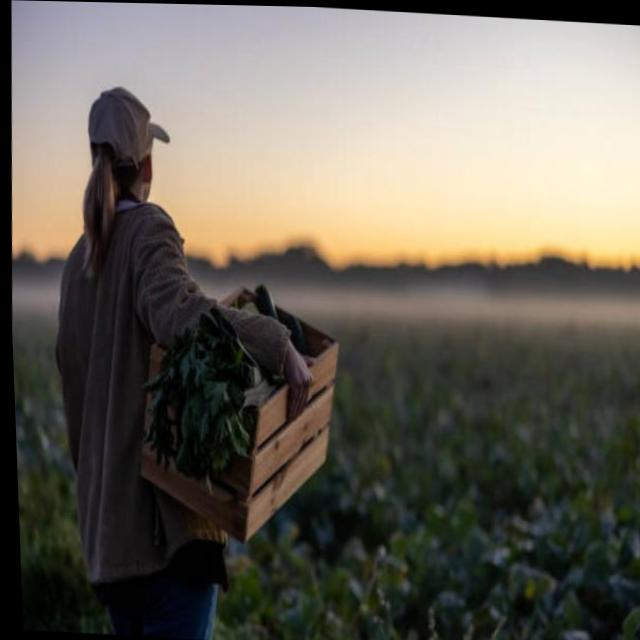no helmet: (71, 82, 174, 202)
